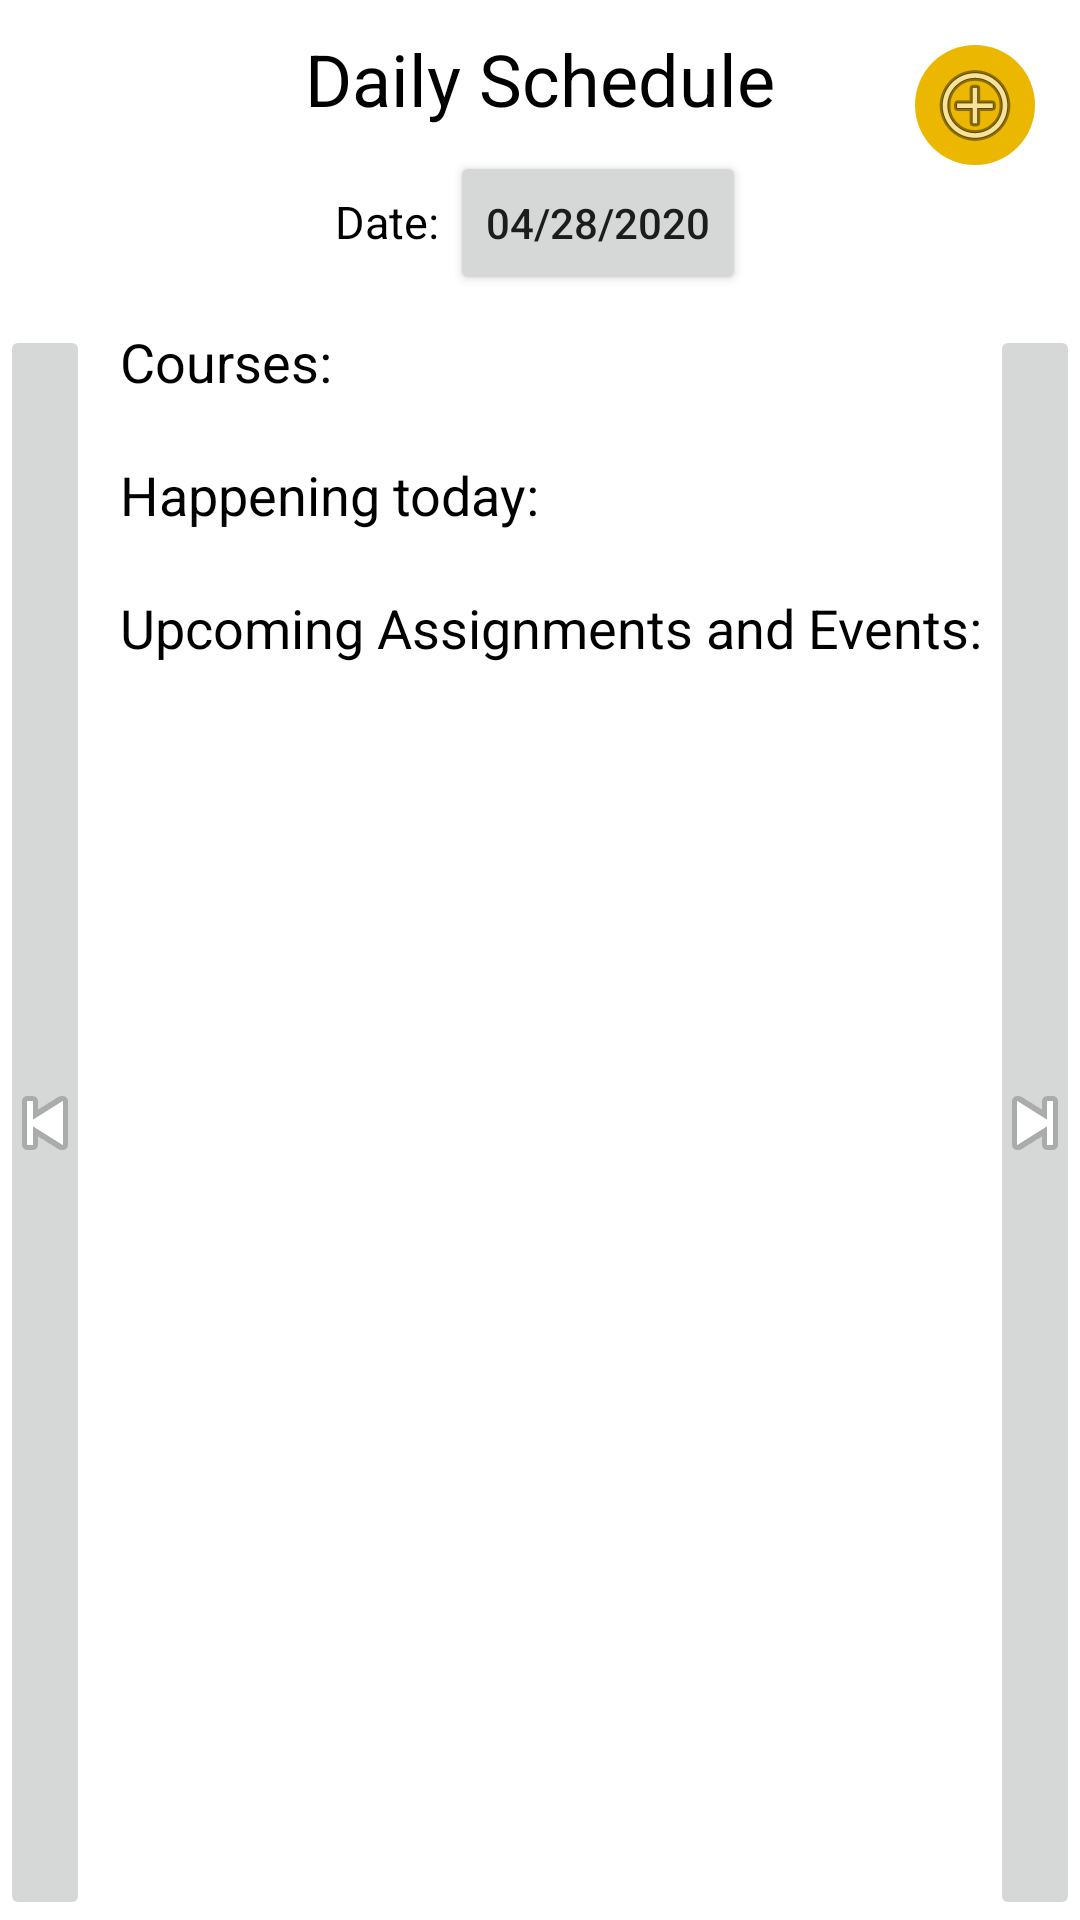

Icon click points for this 1080*1920 phone screenshot, format (x,y):
add: (975,105)
